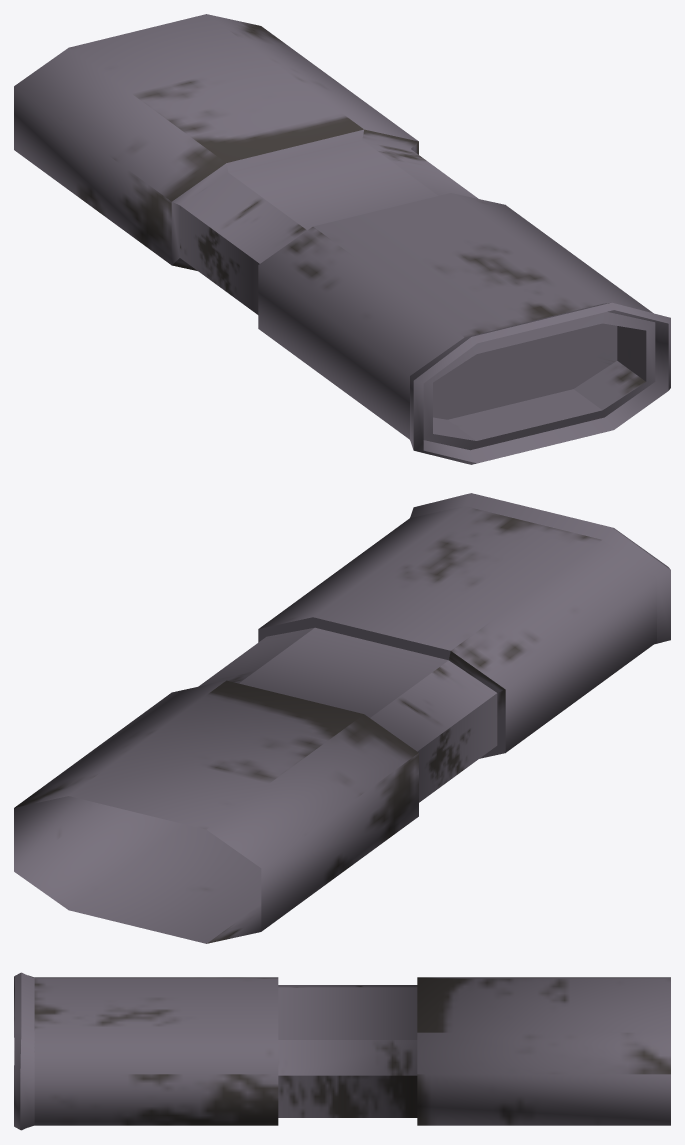
The model's file is CarTunnel.fbx.
The picture shows the model from 3 angles, top to bottom: view 1: azimuth 30°, elevation 25°; view 2: azimuth 150°, elevation 25°; view 3: azimuth 270°, elevation 25°; orthographic projection. The views are drawn at different scales.
Parts seen in each view (by area): view 1: Tunnel, PhasePassTunnel; view 2: Tunnel; view 3: Tunnel.
Part boxes in pixels (<box>): Tunnel: <box>14,14,670,464</box>; PhasePassTunnel: <box>433,323,617,419</box>; Tunnel: <box>14,493,670,943</box>; Tunnel: <box>14,972,670,1130</box>.
Size of the model in its own units: 328 by 156 by 903.
